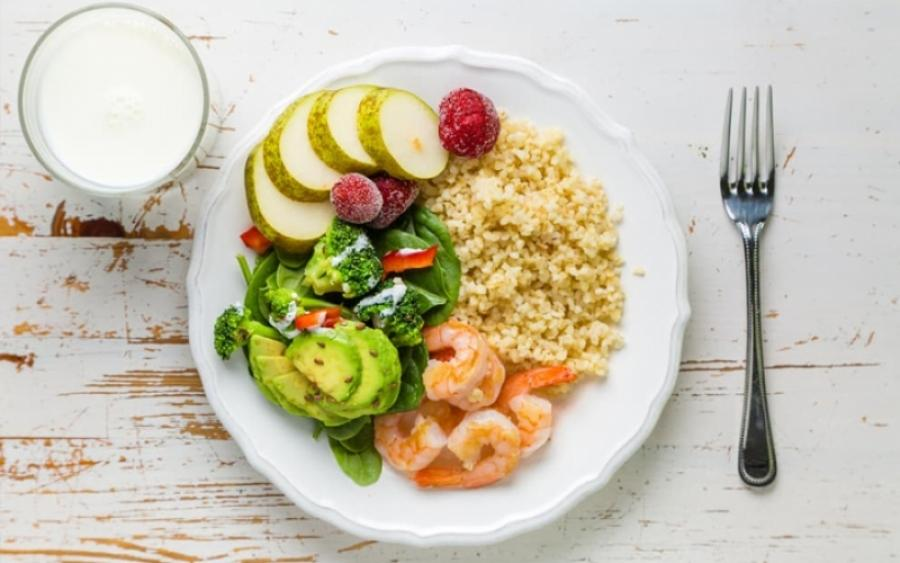buah_sayur_lainnya: (243, 276, 412, 371), (274, 125, 417, 175)
buah_sayur_vitA: (450, 95, 484, 140)
daging: (423, 372, 520, 488)
makanan_berpati: (459, 178, 596, 307)
produk_susu: (59, 48, 167, 145)
